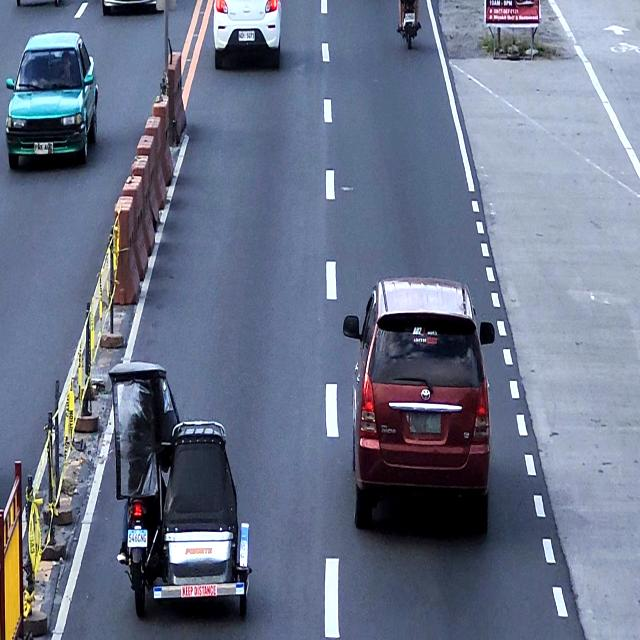Car: (343, 276, 495, 530), (5, 30, 99, 170), (212, 0, 282, 69)
License-Plate: (409, 409, 442, 435), (127, 528, 148, 548), (34, 142, 54, 156), (238, 30, 256, 42), (405, 13, 416, 22)
Motorcycle: (397, 1, 421, 49)
Tricycle: (107, 360, 252, 618)
